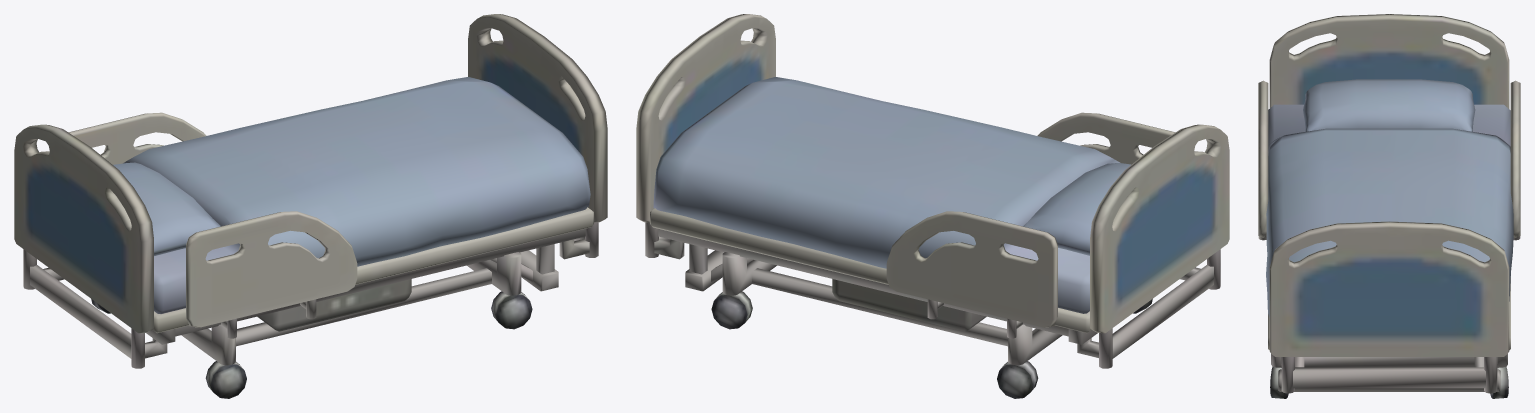
3 renders of one model, left to right at view 1: azimuth 30°, elevation 25°; view 2: azimuth 150°, elevation 25°; view 3: azimuth 270°, elevation 25°, orthographic. The views are drawn at different scales.
Size of the model in its own units: 19.25 by 8.91 by 9.98.
1 material, 1 textured.
